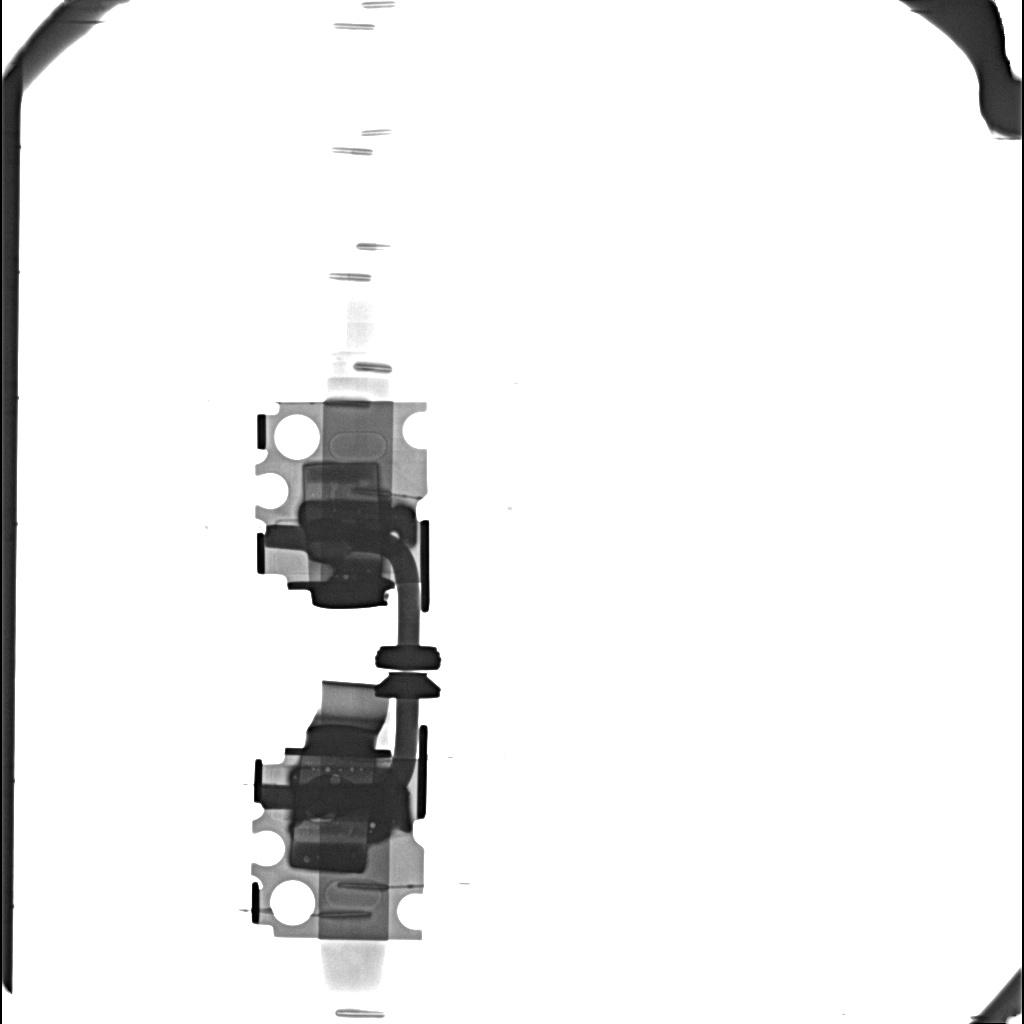PX: (289, 819, 370, 874), (301, 462, 381, 497)
SX: (300, 501, 414, 544), (294, 784, 406, 822)
